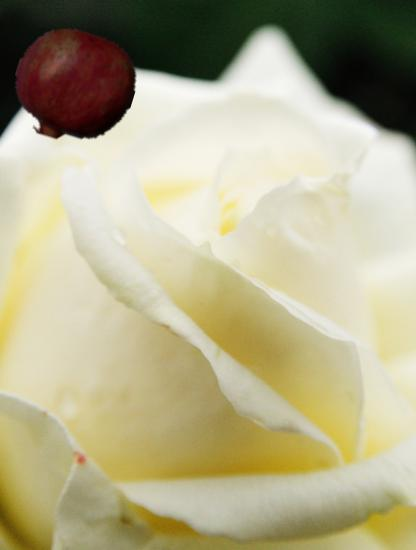Pomegranate: (14, 27, 135, 148)
